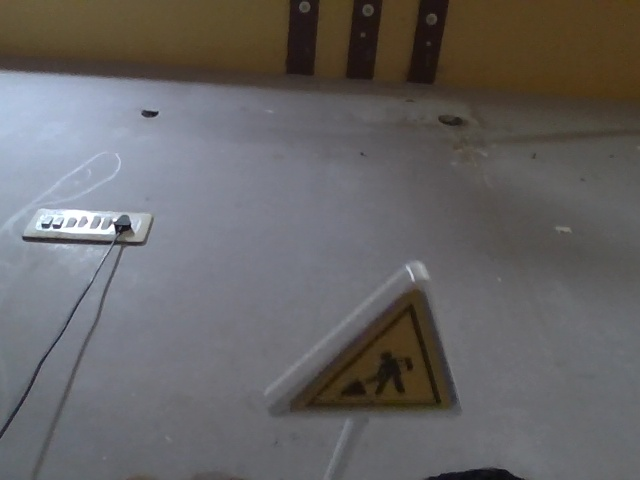workinprogress: (271, 214, 470, 432)
